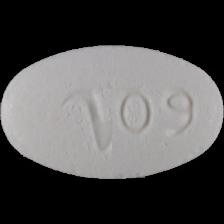10544-623: (0, 0, 224, 224)
